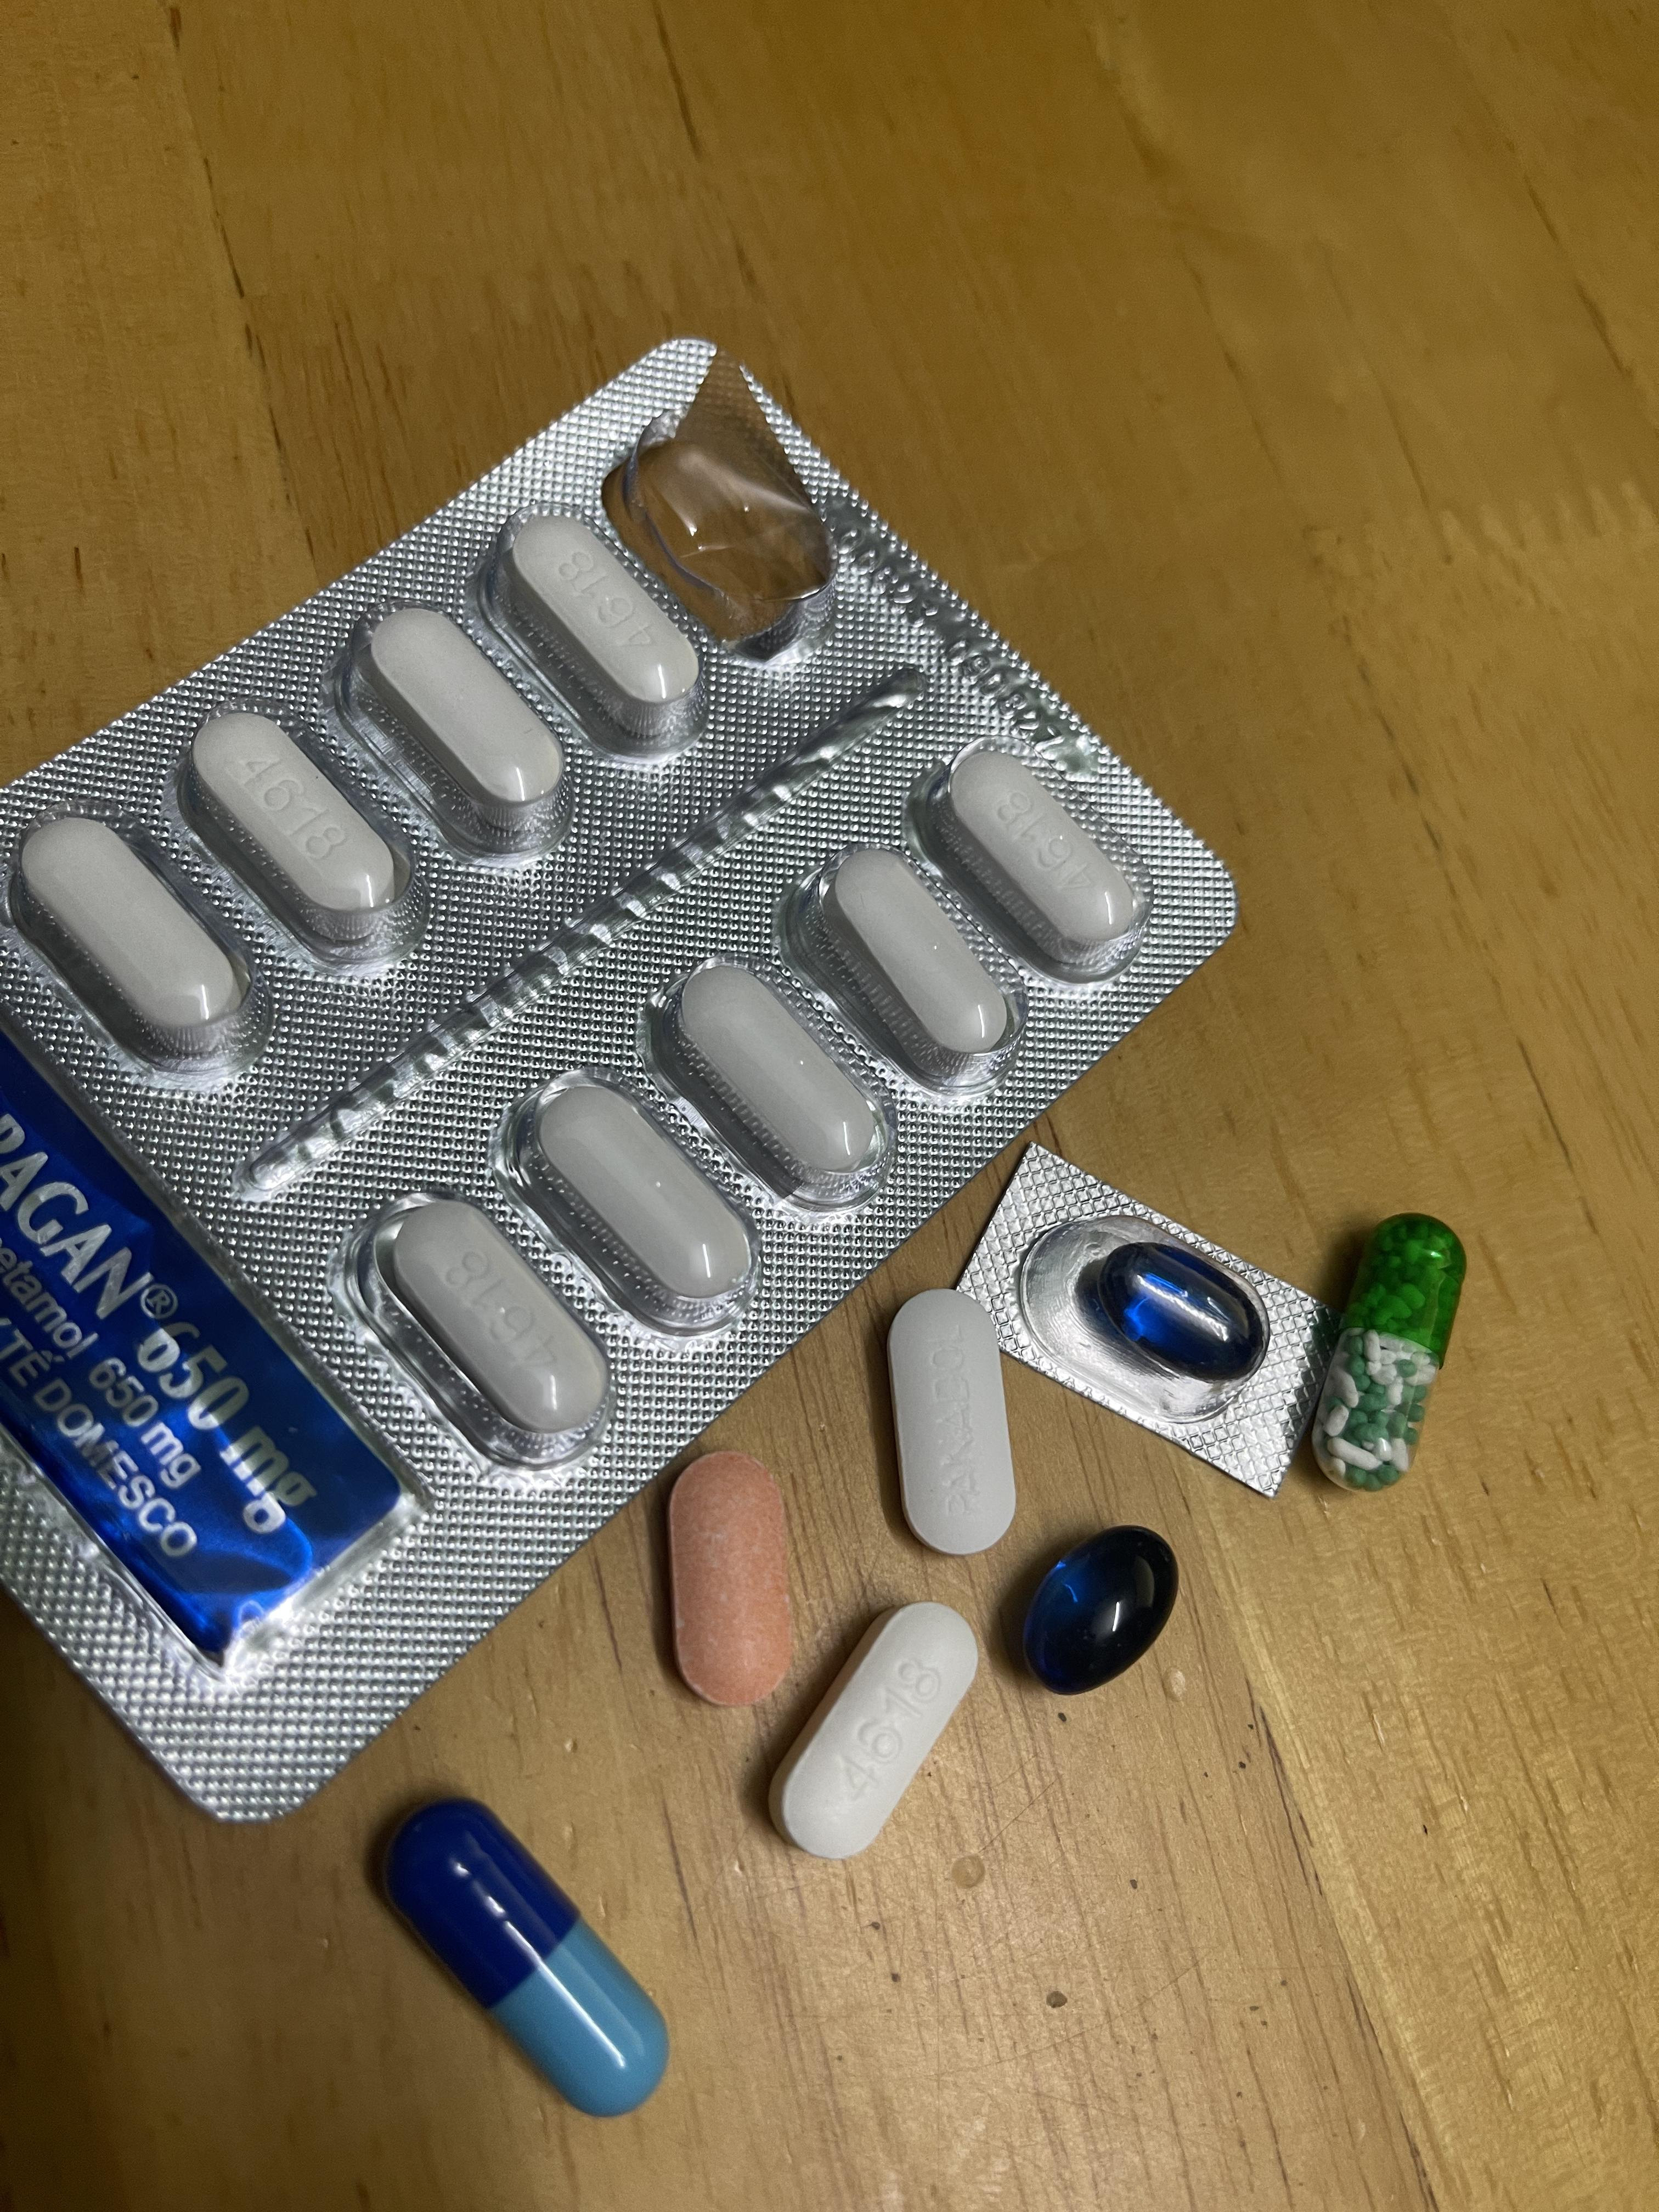Lincomyxin_500mg: (1023, 1529, 1173, 1693), (1096, 1251, 1256, 1376)
Loratadine_10mg: (664, 1449, 793, 1705)
Paracetamol_350mg: (885, 1289, 1018, 1555)
Paracetamol_500mg: (340, 1191, 608, 1453), (179, 704, 429, 972), (498, 1082, 758, 1329), (333, 608, 577, 866), (17, 813, 258, 1075), (488, 510, 706, 752), (772, 1606, 976, 1857), (669, 963, 875, 1188), (931, 747, 1131, 968), (826, 850, 1012, 1059)
Paracetamol_650mg: (1316, 1217, 1464, 1487)
pill: (397, 1811, 660, 2111)
